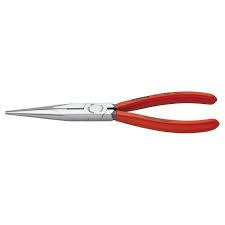pliers: (4, 90, 220, 132)
